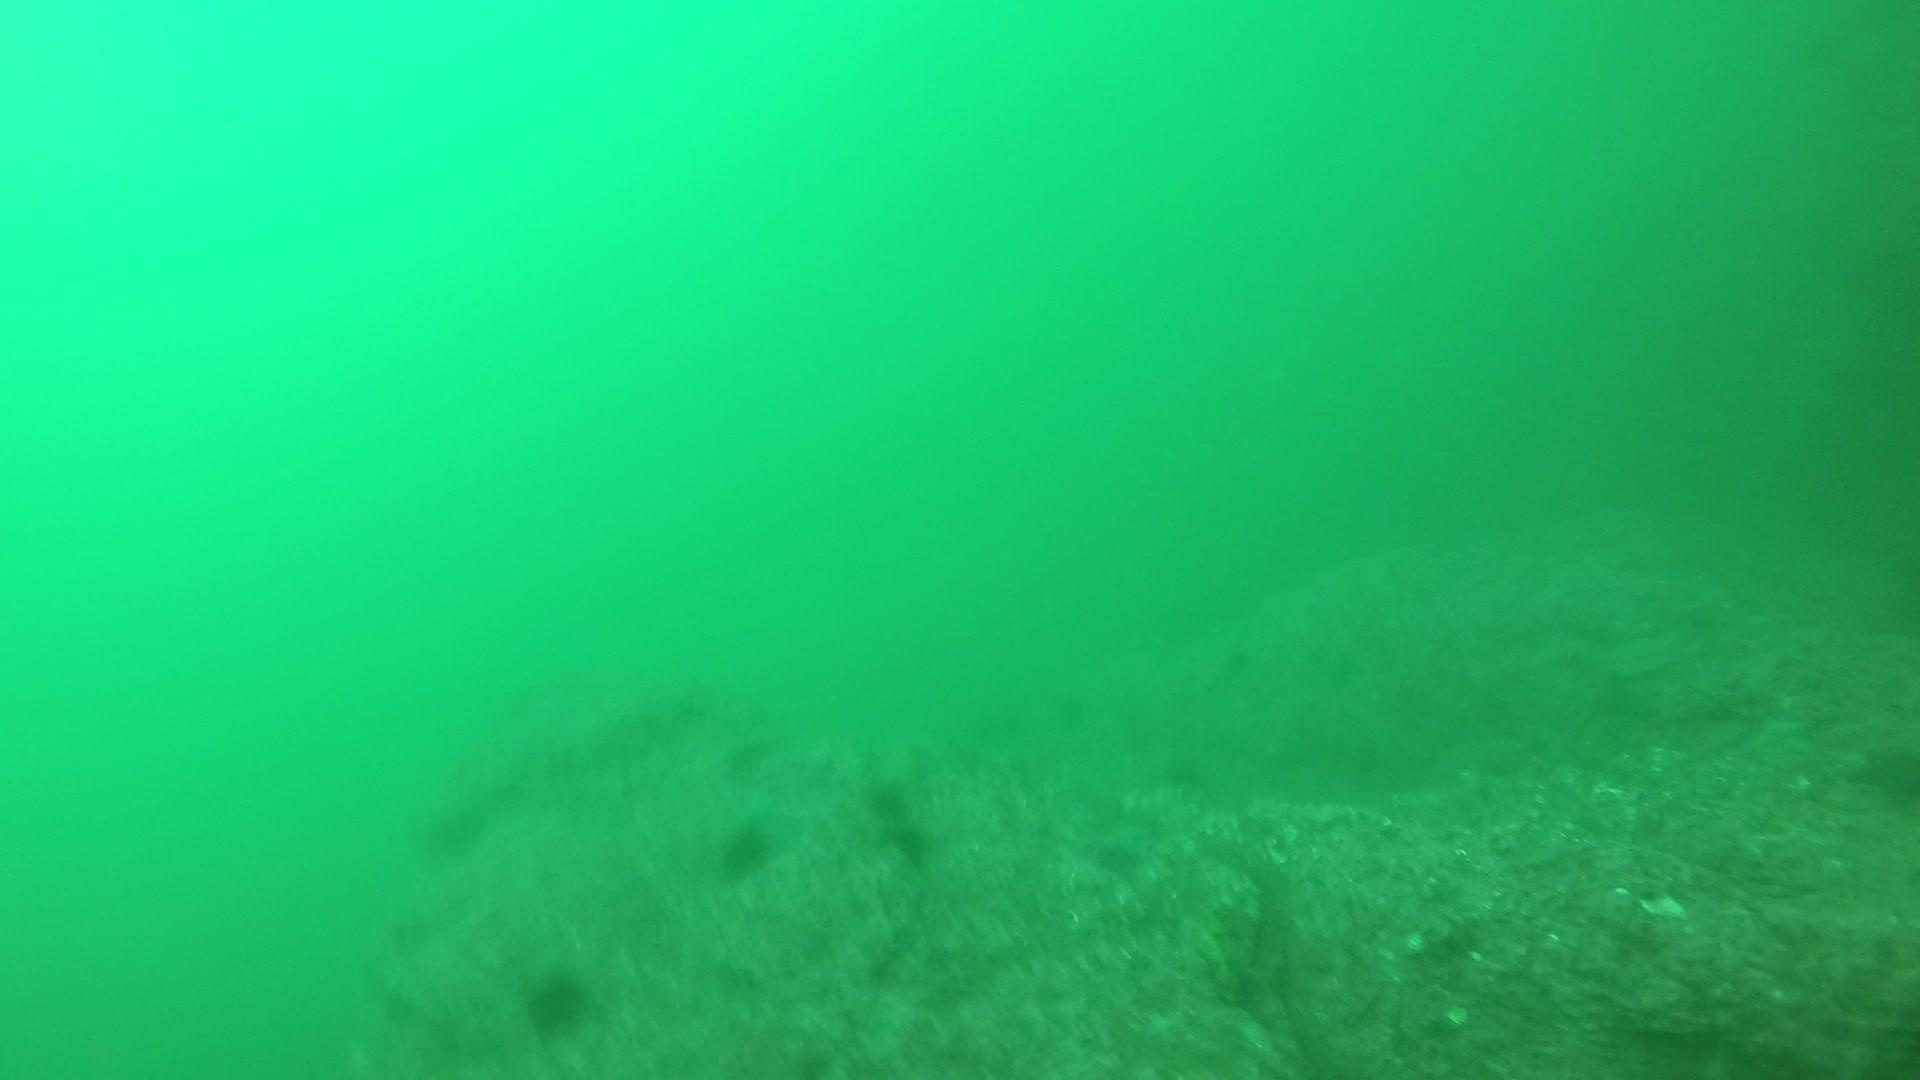echinus: (520, 961, 596, 1036), (415, 794, 491, 861), (1851, 735, 1920, 807), (713, 815, 781, 881), (862, 777, 913, 824), (884, 818, 934, 865)
